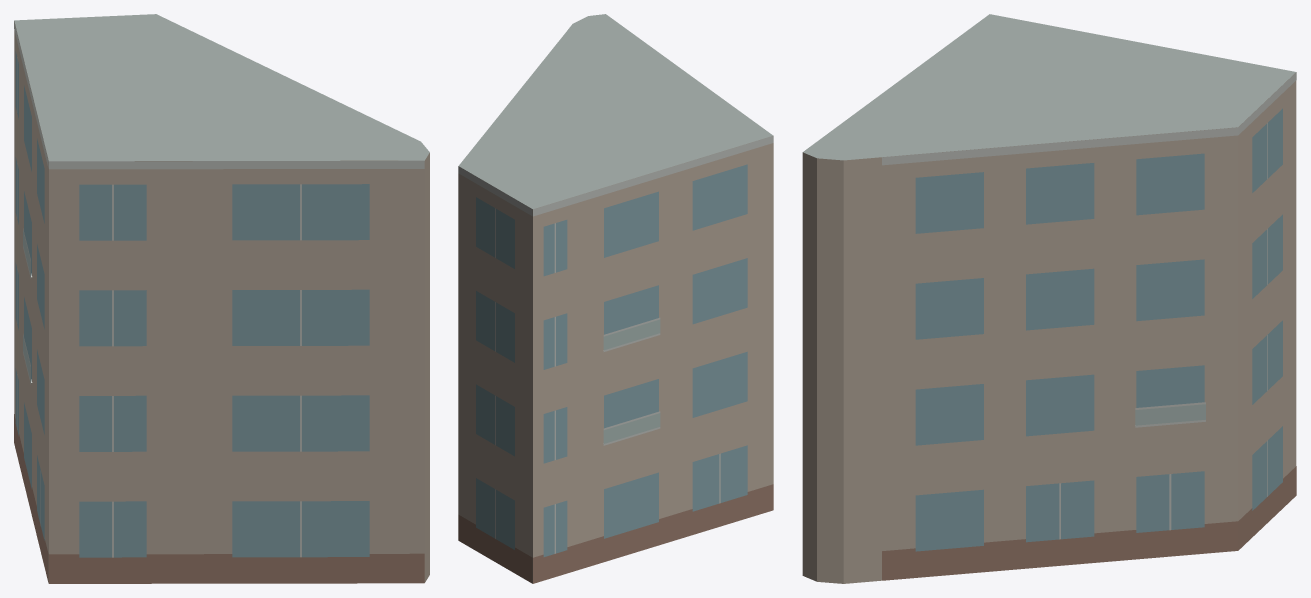
Rendered from survey-upis-32724535.glb.
The picture shows the model from 3 angles, left to right: view 1: azimuth 30°, elevation 25°; view 2: azimuth 150°, elevation 25°; view 3: azimuth 270°, elevation 25°; orthographic projection. The views are drawn at different scales.
Visible parts, largest first — view 1: survey-upis-32724535.tmp; view 2: survey-upis-32724535.tmp; view 3: survey-upis-32724535.tmp.
Boxes of the visible parts, bbox=[...] form: survey-upis-32724535.tmp: bbox=[14, 14, 429, 583]; survey-upis-32724535.tmp: bbox=[458, 14, 773, 583]; survey-upis-32724535.tmp: bbox=[802, 14, 1296, 583].
Size of the model in its own units: 9.34 by 12.6 by 13.32.
